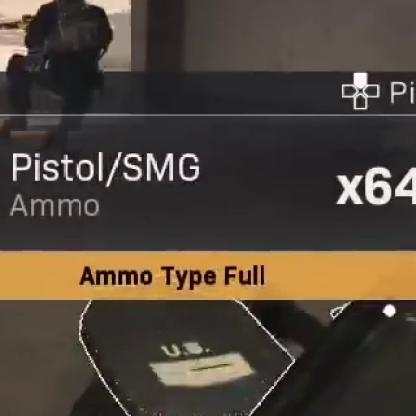enemy: (4, 1, 114, 136)
